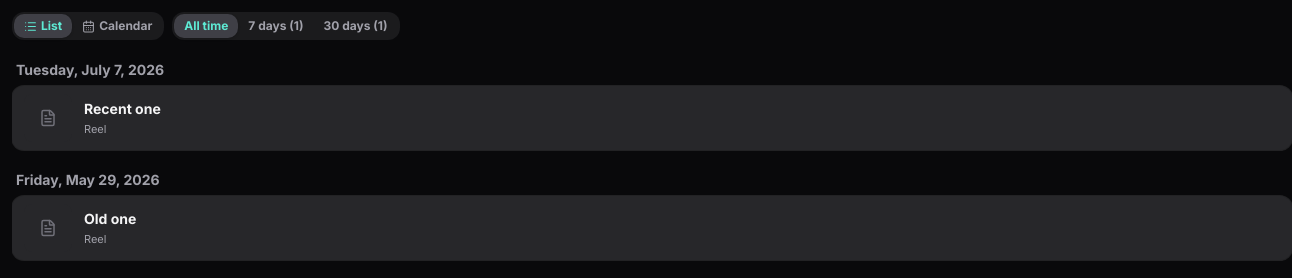
Test: Published views (US-PUB-11) › filters by a date-range preset
Expected: the text "Recent one" is shown, x1=84 y1=100 x2=161 y2=117
Expected: the text "Old one" is shown, x1=84 y1=210 x2=136 y2=227
Click the button "7 days (1)": {"x": 276, "y": 26} x1=238 y1=14 x2=314 y2=38
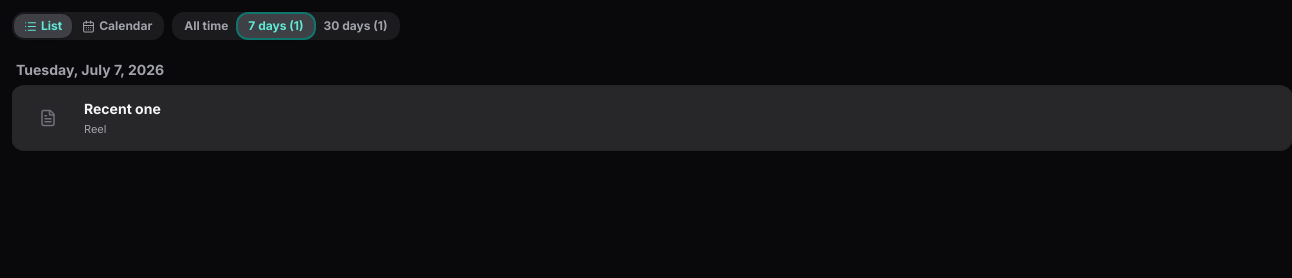
Expected: the text "Recent one" is shown, x1=84 y1=100 x2=161 y2=117
Result: the button "Old one" is gone
